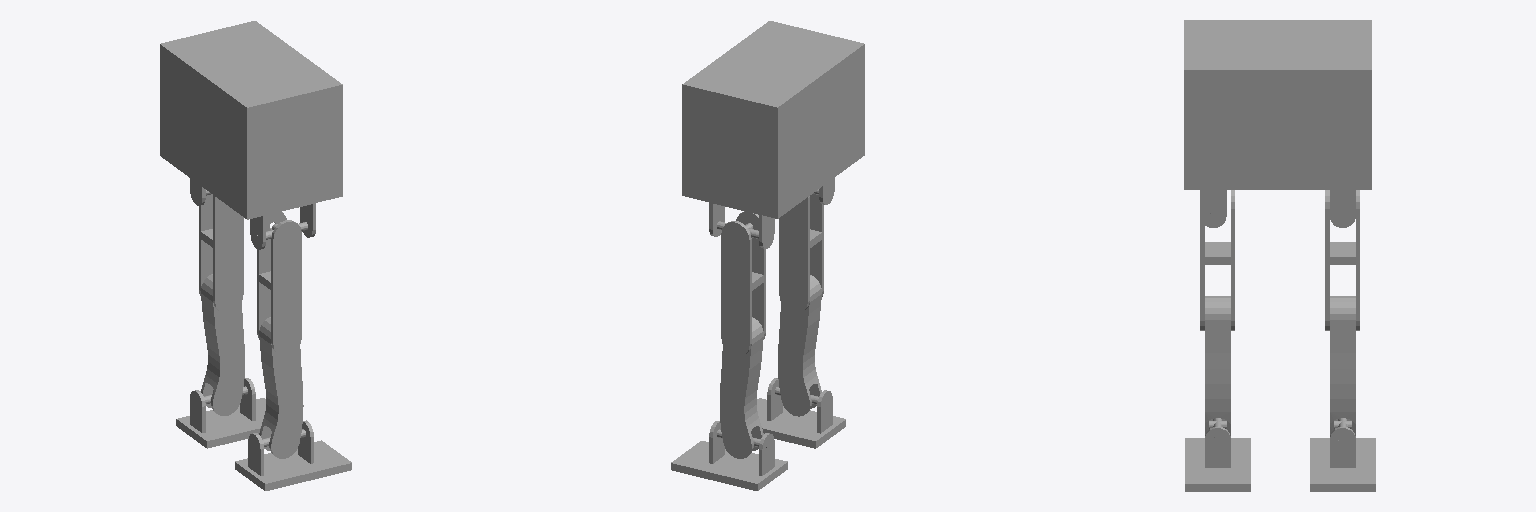
The robot description file, URDF, robot "LeggedRobot":
<?xml version="1.0" ?>
<!-- =================================================================================== -->
<!-- |    This document was autogenerated by xacro from LeggedRobot                    | -->
<!-- |    EDITING THIS FILE BY HAND IS NOT RECOMMENDED                                 | -->
<!-- =================================================================================== -->
<robot xmlns:xacro="http://www.ros.org/wiki/xacro" name="LeggedRobot">
  <material name="silver">
    <color rgba="0.700 0.700 0.700 1.000"/>
  </material>
  <transmission name="Revolute 1_tran">
    <type>transmission_interface/SimpleTransmission</type>
    <joint name="Revolute 1">
      <hardwareInterface>hardware_interface/EffortJointInterface</hardwareInterface>
    </joint>
    <actuator name="Revolute 1_actr">
      <hardwareInterface>hardware_interface/EffortJointInterface</hardwareInterface>
      <mechanicalReduction>1</mechanicalReduction>
    </actuator>
  </transmission>
  <transmission name="Revolute 2_tran">
    <type>transmission_interface/SimpleTransmission</type>
    <joint name="Revolute 2">
      <hardwareInterface>hardware_interface/EffortJointInterface</hardwareInterface>
    </joint>
    <actuator name="Revolute 2_actr">
      <hardwareInterface>hardware_interface/EffortJointInterface</hardwareInterface>
      <mechanicalReduction>1</mechanicalReduction>
    </actuator>
  </transmission>
  <transmission name="Revolute 3_tran">
    <type>transmission_interface/SimpleTransmission</type>
    <joint name="Revolute 3">
      <hardwareInterface>hardware_interface/EffortJointInterface</hardwareInterface>
    </joint>
    <actuator name="Revolute 3_actr">
      <hardwareInterface>hardware_interface/EffortJointInterface</hardwareInterface>
      <mechanicalReduction>1</mechanicalReduction>
    </actuator>
  </transmission>
  <transmission name="Revolute 4_tran">
    <type>transmission_interface/SimpleTransmission</type>
    <joint name="Revolute 4">
      <hardwareInterface>hardware_interface/EffortJointInterface</hardwareInterface>
    </joint>
    <actuator name="Revolute 4_actr">
      <hardwareInterface>hardware_interface/EffortJointInterface</hardwareInterface>
      <mechanicalReduction>1</mechanicalReduction>
    </actuator>
  </transmission>
  <transmission name="Revolute 5_tran">
    <type>transmission_interface/SimpleTransmission</type>
    <joint name="Revolute 5">
      <hardwareInterface>hardware_interface/EffortJointInterface</hardwareInterface>
    </joint>
    <actuator name="Revolute 5_actr">
      <hardwareInterface>hardware_interface/EffortJointInterface</hardwareInterface>
      <mechanicalReduction>1</mechanicalReduction>
    </actuator>
  </transmission>
  <transmission name="Revolute 6_tran">
    <type>transmission_interface/SimpleTransmission</type>
    <joint name="Revolute 6">
      <hardwareInterface>hardware_interface/EffortJointInterface</hardwareInterface>
    </joint>
    <actuator name="Revolute 6_actr">
      <hardwareInterface>hardware_interface/EffortJointInterface</hardwareInterface>
      <mechanicalReduction>1</mechanicalReduction>
    </actuator>
  </transmission>
  <transmission name="Revolute 7_tran">
    <type>transmission_interface/SimpleTransmission</type>
    <joint name="Revolute 7">
      <hardwareInterface>hardware_interface/EffortJointInterface</hardwareInterface>
    </joint>
    <actuator name="Revolute 7_actr">
      <hardwareInterface>hardware_interface/EffortJointInterface</hardwareInterface>
      <mechanicalReduction>1</mechanicalReduction>
    </actuator>
  </transmission>
  <transmission name="Revolute 8_tran">
    <type>transmission_interface/SimpleTransmission</type>
    <joint name="Revolute 8">
      <hardwareInterface>hardware_interface/EffortJointInterface</hardwareInterface>
    </joint>
    <actuator name="Revolute 8_actr">
      <hardwareInterface>hardware_interface/EffortJointInterface</hardwareInterface>
      <mechanicalReduction>1</mechanicalReduction>
    </actuator>
  </transmission>
  <transmission name="Revolute 9_tran">
    <type>transmission_interface/SimpleTransmission</type>
    <joint name="Revolute 9">
      <hardwareInterface>hardware_interface/EffortJointInterface</hardwareInterface>
    </joint>
    <actuator name="Revolute 9_actr">
      <hardwareInterface>hardware_interface/EffortJointInterface</hardwareInterface>
      <mechanicalReduction>1</mechanicalReduction>
    </actuator>
  </transmission>
  <transmission name="Revolute 10_tran">
    <type>transmission_interface/SimpleTransmission</type>
    <joint name="Revolute 10">
      <hardwareInterface>hardware_interface/EffortJointInterface</hardwareInterface>
    </joint>
    <actuator name="Revolute 10_actr">
      <hardwareInterface>hardware_interface/EffortJointInterface</hardwareInterface>
      <mechanicalReduction>1</mechanicalReduction>
    </actuator>
  </transmission>
  <transmission name="Revolute 11_tran">
    <type>transmission_interface/SimpleTransmission</type>
    <joint name="Revolute 11">
      <hardwareInterface>hardware_interface/EffortJointInterface</hardwareInterface>
    </joint>
    <actuator name="Revolute 11_actr">
      <hardwareInterface>hardware_interface/EffortJointInterface</hardwareInterface>
      <mechanicalReduction>1</mechanicalReduction>
    </actuator>
  </transmission>
  <transmission name="Revolute 12_tran">
    <type>transmission_interface/SimpleTransmission</type>
    <joint name="Revolute 12">
      <hardwareInterface>hardware_interface/EffortJointInterface</hardwareInterface>
    </joint>
    <actuator name="Revolute 12_actr">
      <hardwareInterface>hardware_interface/EffortJointInterface</hardwareInterface>
      <mechanicalReduction>1</mechanicalReduction>
    </actuator>
  </transmission>
  <gazebo>
    <plugin name="control" filename="libgazebo_ros_control.so"/>
  </gazebo>
  <gazebo reference="base_link">
    <material>Gazebo/Silver</material>
    <mu1>0.2</mu1>
    <mu2>0.2</mu2>
    <selfCollide>true</selfCollide>
    <gravity>true</gravity>
  </gazebo>
  <gazebo reference="Hip_v1__1__1">
    <material>Gazebo/Silver</material>
    <mu1>0.2</mu1>
    <mu2>0.2</mu2>
    <selfCollide>true</selfCollide>
  </gazebo>
  <gazebo reference="Hip_v1_1">
    <material>Gazebo/Silver</material>
    <mu1>0.2</mu1>
    <mu2>0.2</mu2>
    <selfCollide>true</selfCollide>
  </gazebo>
  <gazebo reference="Hip_joint_v1_1">
    <material>Gazebo/Silver</material>
    <mu1>0.2</mu1>
    <mu2>0.2</mu2>
    <selfCollide>true</selfCollide>
  </gazebo>
  <gazebo reference="Ankle_v1_1">
    <material>Gazebo/Silver</material>
    <mu1>0.2</mu1>
    <mu2>0.2</mu2>
    <selfCollide>true</selfCollide>
  </gazebo>
  <gazebo reference="Upper_leg_v2__1__1">
    <material>Gazebo/Silver</material>
    <mu1>0.2</mu1>
    <mu2>0.2</mu2>
    <selfCollide>true</selfCollide>
  </gazebo>
  <gazebo reference="Upper_leg_v2_1">
    <material>Gazebo/Silver</material>
    <mu1>0.2</mu1>
    <mu2>0.2</mu2>
    <selfCollide>true</selfCollide>
  </gazebo>
  <gazebo reference="Lower_leg_v2__1__1">
    <material>Gazebo/Silver</material>
    <mu1>0.2</mu1>
    <mu2>0.2</mu2>
    <selfCollide>true</selfCollide>
  </gazebo>
  <gazebo reference="Lower_leg_v2_1">
    <material>Gazebo/Silver</material>
    <mu1>0.2</mu1>
    <mu2>0.2</mu2>
    <selfCollide>true</selfCollide>
  </gazebo>
  <gazebo reference="Ankle_v1__1__1">
    <material>Gazebo/Silver</material>
    <mu1>0.2</mu1>
    <mu2>0.2</mu2>
    <selfCollide>true</selfCollide>
  </gazebo>
  <gazebo reference="Ankle_v1__2__1">
    <material>Gazebo/Silver</material>
    <mu1>0.2</mu1>
    <mu2>0.2</mu2>
    <selfCollide>true</selfCollide>
  </gazebo>
  <gazebo reference="Foot_v1__1__1">
    <material>Gazebo/Silver</material>
    <mu1>0.2</mu1>
    <mu2>0.2</mu2>
    <selfCollide>true</selfCollide>
  </gazebo>
  <gazebo reference="Foot_v1_1">
    <material>Gazebo/Silver</material>
    <mu1>0.2</mu1>
    <mu2>0.2</mu2>
    <selfCollide>true</selfCollide>
  </gazebo>
  <link name="base_link">
    <inertial>
      <origin xyz="-2.7471154310606345e-17 -1.7035252624411454e-17 0.07519859671235585" rpy="0 0 0"/>
      <mass value="7.805254806134041"/>
      <inertia ixx="0.044074" iyy="0.026397" izz="0.041232" ixy="-0.0" iyz="0.0" ixz="-0.0"/>
    </inertial>
    <visual>
      <origin xyz="0 0 0" rpy="0 0 0"/>
      <geometry>
        <mesh filename="../meshes/base_link.stl"/>
      </geometry>
      <material name="silver"/>
    </visual>
    <collision>
      <origin xyz="0 0 0" rpy="0 0 0"/>
      <geometry>
        <mesh filename="../meshes/base_link.stl"/>
      </geometry>
    </collision>
  </link>
  <link name="Hip_v1__1__1">
    <inertial>
      <origin xyz="0.0022984441069888208 -5.53402129122027e-07 -0.013356564577291863" rpy="0 0 0"/>
      <mass value="0.07120981938348954"/>
      <inertia ixx="2.6e-05" iyy="7e-05" izz="5.4e-05" ixy="0.0" iyz="0.0" ixz="0.0"/>
    </inertial>
    <visual>
      <origin xyz="0.0 -0.073437 -0.0" rpy="0 0 0"/>
      <geometry>
        <mesh filename="../meshes/Hip_v1__1__1.stl"/>
      </geometry>
      <material name="silver"/>
    </visual>
    <collision>
      <origin xyz="0.0 -0.073437 -0.0" rpy="0 0 0"/>
      <geometry>
        <mesh filename="../meshes/Hip_v1__1__1.stl"/>
      </geometry>
    </collision>
  </link>
  <link name="Hip_v1_1">
    <inertial>
      <origin xyz="0.0022984441069888546 -1.1401027765201022e-06 -0.013356564577292111" rpy="0 0 0"/>
      <mass value="0.07120981938348954"/>
      <inertia ixx="2.6e-05" iyy="7e-05" izz="5.4e-05" ixy="0.0" iyz="0.0" ixz="0.0"/>
    </inertial>
    <visual>
      <origin xyz="0.0 0.073437 -0.0" rpy="0 0 0"/>
      <geometry>
        <mesh filename="../meshes/Hip_v1_1.stl"/>
      </geometry>
      <material name="silver"/>
    </visual>
    <collision>
      <origin xyz="0.0 0.073437 -0.0" rpy="0 0 0"/>
      <geometry>
        <mesh filename="../meshes/Hip_v1_1.stl"/>
      </geometry>
    </collision>
  </link>
  <link name="Hip_joint_v1_1">
    <inertial>
      <origin xyz="0.036777802683292456 8.700605495792768e-08 -2.3112192325543124e-05" rpy="0 0 0"/>
      <mass value="0.015566398617684687"/>
      <inertia ixx="1e-06" iyy="5e-06" izz="6e-06" ixy="-0.0" iyz="-0.0" ixz="-0.0"/>
    </inertial>
    <visual>
      <origin xyz="0.035 -0.073437 0.045328" rpy="0 0 0"/>
      <geometry>
        <mesh filename="../meshes/Hip_joint_v1_1.stl"/>
      </geometry>
      <material name="silver"/>
    </visual>
    <collision>
      <origin xyz="0.035 -0.073437 0.045328" rpy="0 0 0"/>
      <geometry>
        <mesh filename="../meshes/Hip_joint_v1_1.stl"/>
      </geometry>
    </collision>
  </link>
  <link name="Ankle_v1_1">
    <inertial>
      <origin xyz="0.03695837800314751 -5.16086539059657e-07 -1.8276981016612792e-05" rpy="0 0 0"/>
      <mass value="0.013454867594222361"/>
      <inertia ixx="0.0" iyy="5e-06" izz="5e-06" ixy="-0.0" iyz="-0.0" ixz="-0.0"/>
    </inertial>
    <visual>
      <origin xyz="0.035 0.073437 0.045328" rpy="0 0 0"/>
      <geometry>
        <mesh filename="../meshes/Ankle_v1_1.stl"/>
      </geometry>
      <material name="silver"/>
    </visual>
    <collision>
      <origin xyz="0.035 0.073437 0.045328" rpy="0 0 0"/>
      <geometry>
        <mesh filename="../meshes/Ankle_v1_1.stl"/>
      </geometry>
    </collision>
  </link>
  <link name="Upper_leg_v2__1__1">
    <inertial>
      <origin xyz="-6.801099966390877e-17 0.020000293350323717 -0.07192876729347258" rpy="0 0 0"/>
      <mass value="0.1431308285816426"/>
      <inertia ixx="0.000346" iyy="0.000326" izz="5.6e-05" ixy="0.0" iyz="0.0" ixz="0.0"/>
    </inertial>
    <visual>
      <origin xyz="0.0 -0.053437 0.045399" rpy="0 0 0"/>
      <geometry>
        <mesh filename="../meshes/Upper_leg_v2__1__1.stl"/>
      </geometry>
      <material name="silver"/>
    </visual>
    <collision>
      <origin xyz="0.0 -0.053437 0.045399" rpy="0 0 0"/>
      <geometry>
        <mesh filename="../meshes/Upper_leg_v2__1__1.stl"/>
      </geometry>
    </collision>
  </link>
  <link name="Upper_leg_v2_1">
    <inertial>
      <origin xyz="3.857041070010626e-17 0.019999706649676277 -0.07192876729347247" rpy="0 0 0"/>
      <mass value="0.1431308285816426"/>
      <inertia ixx="0.000346" iyy="0.000326" izz="5.6e-05" ixy="0.0" iyz="0.0" ixz="0.0"/>
    </inertial>
    <visual>
      <origin xyz="-0.0 0.088437 0.045399" rpy="0 0 0"/>
      <geometry>
        <mesh filename="../meshes/Upper_leg_v2_1.stl"/>
      </geometry>
      <material name="silver"/>
    </visual>
    <collision>
      <origin xyz="-0.0 0.088437 0.045399" rpy="0 0 0"/>
      <geometry>
        <mesh filename="../meshes/Upper_leg_v2_1.stl"/>
      </geometry>
    </collision>
  </link>
  <link name="Lower_leg_v2__1__1">
    <inertial>
      <origin xyz="0.003675908133282728 0.01500029514740242 -0.05875757794300279" rpy="0 0 0"/>
      <mass value="0.301868005898131"/>
      <inertia ixx="0.000629" iyy="0.000642" izz="6.2e-05" ixy="0.0" iyz="0.0" ixz="2.2e-05"/>
    </inertial>
    <visual>
      <origin xyz="0.0 -0.058437 0.185399" rpy="0 0 0"/>
      <geometry>
        <mesh filename="../meshes/Lower_leg_v2__1__1.stl"/>
      </geometry>
      <material name="silver"/>
    </visual>
    <collision>
      <origin xyz="0.0 -0.058437 0.185399" rpy="0 0 0"/>
      <geometry>
        <mesh filename="../meshes/Lower_leg_v2__1__1.stl"/>
      </geometry>
    </collision>
  </link>
  <link name="Lower_leg_v2_1">
    <inertial>
      <origin xyz="0.0036759081332828213 0.014999708446754995 -0.05875757794300265" rpy="0 0 0"/>
      <mass value="0.301868005898131"/>
      <inertia ixx="0.000629" iyy="0.000642" izz="6.2e-05" ixy="0.0" iyz="0.0" ixz="2.2e-05"/>
    </inertial>
    <visual>
      <origin xyz="-0.0 0.083437 0.185399" rpy="0 0 0"/>
      <geometry>
        <mesh filename="../meshes/Lower_leg_v2_1.stl"/>
      </geometry>
      <material name="silver"/>
    </visual>
    <collision>
      <origin xyz="-0.0 0.083437 0.185399" rpy="0 0 0"/>
      <geometry>
        <mesh filename="../meshes/Lower_leg_v2_1.stl"/>
      </geometry>
    </collision>
  </link>
  <link name="Ankle_v1__1__1">
    <inertial>
      <origin xyz="0.001958378003147547 0.014999483913460926 5.2723018983069636e-05" rpy="0 0 0"/>
      <mass value="0.013454867594222361"/>
      <inertia ixx="0.0" iyy="5e-06" izz="5e-06" ixy="-0.0" iyz="-0.0" ixz="-0.0"/>
    </inertial>
    <visual>
      <origin xyz="-0.0 0.083437 0.325399" rpy="0 0 0"/>
      <geometry>
        <mesh filename="../meshes/Ankle_v1__1__1.stl"/>
      </geometry>
      <material name="silver"/>
    </visual>
    <collision>
      <origin xyz="-0.0 0.083437 0.325399" rpy="0 0 0"/>
      <geometry>
        <mesh filename="../meshes/Ankle_v1__1__1.stl"/>
      </geometry>
    </collision>
  </link>
  <link name="Ankle_v1__2__1">
    <inertial>
      <origin xyz="0.001958378003147454 0.015000070614108352 5.2723018982958614e-05" rpy="0 0 0"/>
      <mass value="0.013454867594222361"/>
      <inertia ixx="0.0" iyy="5e-06" izz="5e-06" ixy="-0.0" iyz="-0.0" ixz="-0.0"/>
    </inertial>
    <visual>
      <origin xyz="0.0 -0.058437 0.325399" rpy="0 0 0"/>
      <geometry>
        <mesh filename="../meshes/Ankle_v1__2__1.stl"/>
      </geometry>
      <material name="silver"/>
    </visual>
    <collision>
      <origin xyz="0.0 -0.058437 0.325399" rpy="0 0 0"/>
      <geometry>
        <mesh filename="../meshes/Ankle_v1__2__1.stl"/>
      </geometry>
    </collision>
  </link>
  <link name="Foot_v1__1__1">
    <inertial>
      <origin xyz="0.05260285295726386 3.9472407584173475e-07 -0.03676333019729189" rpy="0 0 0"/>
      <mass value="0.18191482193416827"/>
      <inertia ixx="9.7e-05" iyy="0.000254" izz="0.000307" ixy="0.0" iyz="-0.0" ixz="1e-05"/>
    </inertial>
    <visual>
      <origin xyz="0.035 -0.073437 0.325328" rpy="0 0 0"/>
      <geometry>
        <mesh filename="../meshes/Foot_v1__1__1.stl"/>
      </geometry>
      <material name="silver"/>
    </visual>
    <collision>
      <origin xyz="0.035 -0.073437 0.325328" rpy="0 0 0"/>
      <geometry>
        <mesh filename="../meshes/Foot_v1__1__1.stl"/>
      </geometry>
    </collision>
  </link>
  <link name="Foot_v1_1">
    <inertial>
      <origin xyz="0.05260285295726397 -1.919765715702182e-07 -0.036763330197291666" rpy="0 0 0"/>
      <mass value="0.18191482193416827"/>
      <inertia ixx="9.7e-05" iyy="0.000254" izz="0.000307" ixy="0.0" iyz="-0.0" ixz="1e-05"/>
    </inertial>
    <visual>
      <origin xyz="0.035 0.068437 0.325328" rpy="0 0 0"/>
      <geometry>
        <mesh filename="../meshes/Foot_v1_1.stl"/>
      </geometry>
      <material name="silver"/>
    </visual>
    <collision>
      <origin xyz="0.035 0.068437 0.325328" rpy="0 0 0"/>
      <geometry>
        <mesh filename="../meshes/Foot_v1_1.stl"/>
      </geometry>
    </collision>
  </link>
  <joint name="Revolute 1" type="continuous">
    <origin xyz="0.0 0.073437 0.0" rpy="0 0 0"/>
    <parent link="base_link"/>
    <child link="Hip_v1__1__1"/>
    <axis xyz="-0.0 -0.0 1.0"/>
  </joint>
  <joint name="Revolute 2" type="continuous">
    <origin xyz="0.0 -0.073437 0.0" rpy="0 0 0"/>
    <parent link="base_link"/>
    <child link="Hip_v1_1"/>
    <axis xyz="0.0 -0.0 -1.0"/>
  </joint>
  <joint name="Revolute 3" type="continuous">
    <origin xyz="-0.035 0.0 -0.045328" rpy="0 0 0"/>
    <parent link="Hip_v1__1__1"/>
    <child link="Hip_joint_v1_1"/>
    <axis xyz="1.0 0.0 0.0"/>
  </joint>
  <joint name="Revolute 4" type="continuous">
    <origin xyz="-0.035 0.0 -0.045328" rpy="0 0 0"/>
    <parent link="Hip_v1_1"/>
    <child link="Ankle_v1_1"/>
    <axis xyz="1.0 0.0 0.0"/>
  </joint>
  <joint name="Revolute 5" type="continuous">
    <origin xyz="0.035 -0.02 -7.1e-05" rpy="0 0 0"/>
    <parent link="Hip_joint_v1_1"/>
    <child link="Upper_leg_v2__1__1"/>
    <axis xyz="-0.0 -1.0 0.0"/>
  </joint>
  <joint name="Revolute 6" type="continuous">
    <origin xyz="0.035 -0.015 -7.1e-05" rpy="0 0 0"/>
    <parent link="Ankle_v1_1"/>
    <child link="Upper_leg_v2_1"/>
    <axis xyz="0.0 -1.0 0.0"/>
  </joint>
  <joint name="Revolute 7" type="continuous">
    <origin xyz="0.0 0.005 -0.14" rpy="0 0 0"/>
    <parent link="Upper_leg_v2__1__1"/>
    <child link="Lower_leg_v2__1__1"/>
    <axis xyz="0.0 1.0 0.0"/>
  </joint>
  <joint name="Revolute 8" type="continuous">
    <origin xyz="0.0 0.005 -0.14" rpy="0 0 0"/>
    <parent link="Upper_leg_v2_1"/>
    <child link="Lower_leg_v2_1"/>
    <axis xyz="0.0 1.0 0.0"/>
  </joint>
  <joint name="Revolute 9" type="continuous">
    <origin xyz="0.0 0.0 -0.14" rpy="0 0 0"/>
    <parent link="Lower_leg_v2_1"/>
    <child link="Ankle_v1__1__1"/>
    <axis xyz="0.0 -1.0 0.0"/>
  </joint>
  <joint name="Revolute 10" type="continuous">
    <origin xyz="0.0 0.0 -0.14" rpy="0 0 0"/>
    <parent link="Lower_leg_v2__1__1"/>
    <child link="Ankle_v1__2__1"/>
    <axis xyz="-0.0 -1.0 0.0"/>
  </joint>
  <joint name="Revolute 11" type="continuous">
    <origin xyz="-0.035 0.015 7.1e-05" rpy="0 0 0"/>
    <parent link="Ankle_v1__2__1"/>
    <child link="Foot_v1__1__1"/>
    <axis xyz="-1.0 0.0 -0.0"/>
  </joint>
  <joint name="Revolute 12" type="continuous">
    <origin xyz="-0.035 0.015 7.1e-05" rpy="0 0 0"/>
    <parent link="Ankle_v1__1__1"/>
    <child link="Foot_v1_1"/>
    <axis xyz="-1.0 0.0 -0.0"/>
  </joint>
</robot>

--- What the picture shows (computed from the rendered views, not written in the file) ---
The picture shows the robot from 3 angles, left to right: view 1: azimuth 30°, elevation 25°; view 2: azimuth 150°, elevation 25°; view 3: azimuth 270°, elevation 25°; orthographic projection.
Robot: LeggedRobot — 13 links, 12 joints (12 continuous); root link base_link; default pose: every joint at zero.
Visible links, largest first — view 1: base_link, Upper_leg_v2_1, Upper_leg_v2__1__1, Lower_leg_v2__1__1, Lower_leg_v2_1, Foot_v1_1, Foot_v1__1__1, Hip_v1_1; view 2: base_link, Upper_leg_v2__1__1, Upper_leg_v2_1, Lower_leg_v2_1, Lower_leg_v2__1__1, Foot_v1__1__1, Foot_v1_1, Hip_v1__1__1; view 3: base_link, Foot_v1__1__1, Foot_v1_1, Lower_leg_v2__1__1, Lower_leg_v2_1, Upper_leg_v2__1__1, Upper_leg_v2_1, Hip_v1_1, Hip_v1__1__1.
Boxes of the visible links, x1=… form: base_link: x1=160, y1=21, x2=342, y2=219; Upper_leg_v2_1: x1=257, y1=212, x2=301, y2=355; Upper_leg_v2__1__1: x1=199, y1=194, x2=243, y2=312; Lower_leg_v2__1__1: x1=201, y1=274, x2=244, y2=415; Lower_leg_v2_1: x1=259, y1=317, x2=303, y2=458; Foot_v1_1: x1=235, y1=420, x2=351, y2=490; Foot_v1__1__1: x1=176, y1=378, x2=265, y2=448; Hip_v1_1: x1=250, y1=203, x2=315, y2=249; base_link: x1=682, y1=21, x2=864, y2=218; Upper_leg_v2__1__1: x1=721, y1=211, x2=765, y2=356; Upper_leg_v2_1: x1=779, y1=194, x2=823, y2=313; Lower_leg_v2_1: x1=778, y1=275, x2=821, y2=416; Lower_leg_v2__1__1: x1=720, y1=317, x2=763, y2=458; Foot_v1__1__1: x1=671, y1=421, x2=787, y2=490; Foot_v1_1: x1=757, y1=378, x2=845, y2=448; Hip_v1__1__1: x1=709, y1=203, x2=774, y2=248; base_link: x1=1184, y1=20, x2=1371, y2=189; Foot_v1__1__1: x1=1310, y1=419, x2=1375, y2=491; Foot_v1_1: x1=1185, y1=419, x2=1250, y2=491; Lower_leg_v2__1__1: x1=1330, y1=296, x2=1355, y2=435; Lower_leg_v2_1: x1=1205, y1=296, x2=1230, y2=435; Upper_leg_v2__1__1: x1=1325, y1=190, x2=1359, y2=330; Upper_leg_v2_1: x1=1200, y1=190, x2=1234, y2=330; Hip_v1_1: x1=1200, y1=190, x2=1226, y2=227; Hip_v1__1__1: x1=1330, y1=190, x2=1355, y2=227.
Bounding box of the posed robot: 0.148 × 0.2173 × 0.5207 m (x, y, z).
Meshes: 13 distinct files referenced, 13 mesh visuals loaded (13 ASCII STL).